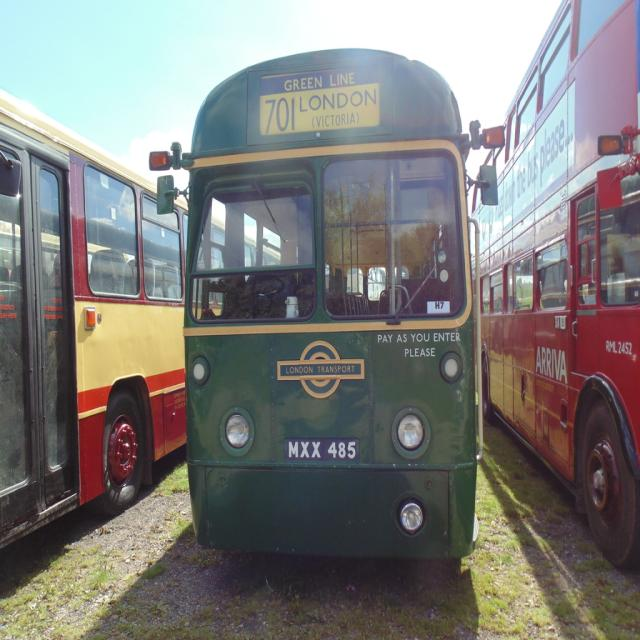Buses: (174, 48, 488, 564)
